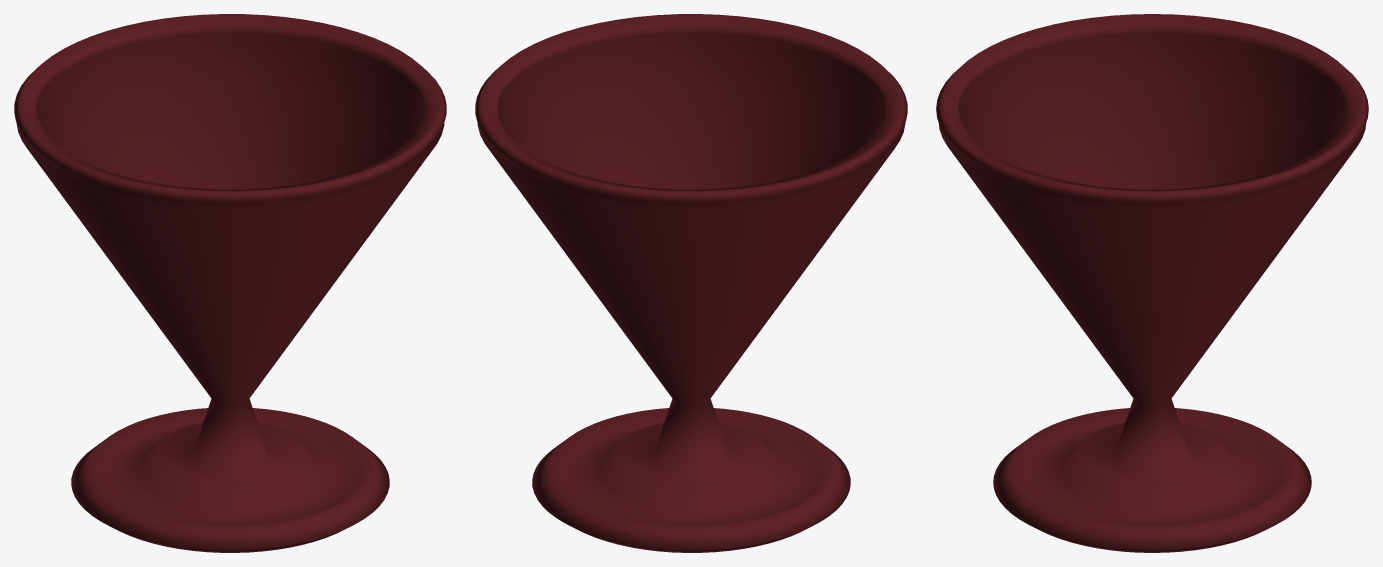
Rendered from cup17.obj.
The picture shows the model from 3 angles, left to right: view 1: azimuth 30°, elevation 25°; view 2: azimuth 150°, elevation 25°; view 3: azimuth 270°, elevation 25°; orthographic projection.
Parts seen in each view (by area): view 1: Cup17.001; view 2: Cup17.001; view 3: Cup17.001.
Boxes of the visible parts, left/top/right/bottom form: Cup17.001: left=14, top=14, right=446, bottom=552; Cup17.001: left=475, top=14, right=907, bottom=552; Cup17.001: left=936, top=14, right=1368, bottom=552.
Bounding box in the file's own units: 3.34 × 3.31 × 3.34.
